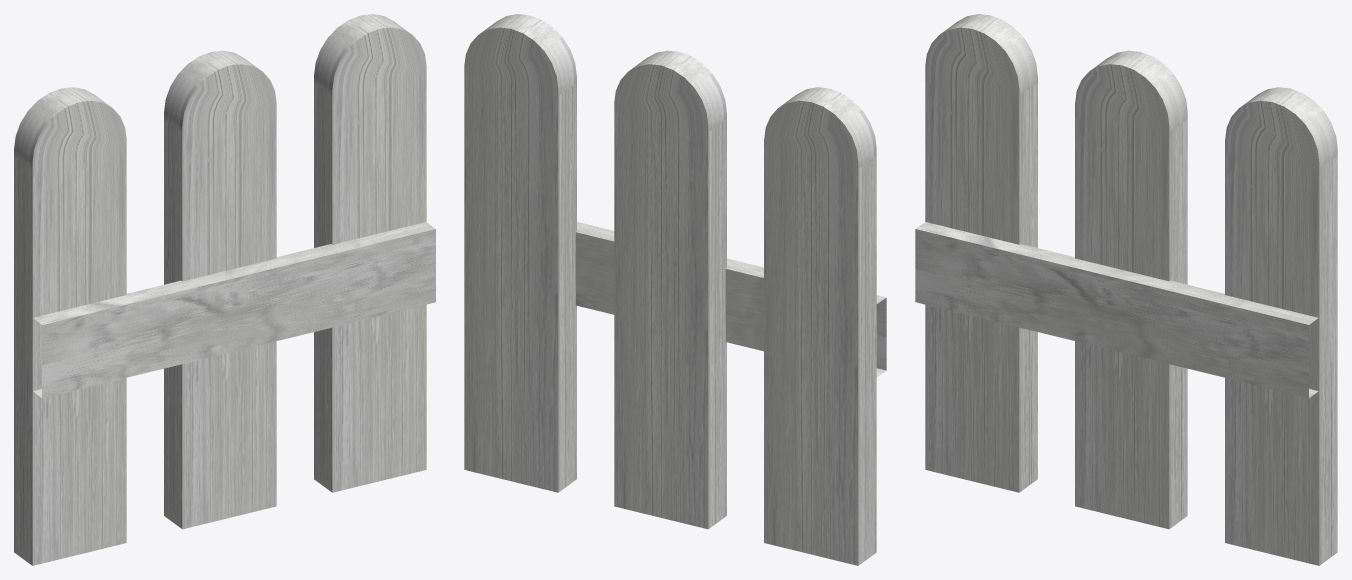
The model's file is SmallWall.fbx.
3 renders of one model, left to right at view 1: azimuth 30°, elevation 25°; view 2: azimuth 150°, elevation 25°; view 3: azimuth 330°, elevation 25°, orthographic.
Parts seen in each view (by area): view 1: polySurface20, polySurface21, polySurface22, polySurface23; view 2: polySurface20, polySurface21, polySurface22, polySurface23; view 3: polySurface22, polySurface21, polySurface20, polySurface23.
Boxes of the visible parts, x1,y1,x2,y2 form: polySurface20: [14, 87, 126, 565]; polySurface21: [164, 50, 276, 529]; polySurface22: [314, 14, 426, 492]; polySurface23: [33, 222, 435, 398]; polySurface20: [764, 87, 876, 565]; polySurface21: [614, 50, 726, 529]; polySurface22: [464, 14, 576, 492]; polySurface23: [575, 222, 886, 376]; polySurface22: [1225, 87, 1337, 565]; polySurface21: [1075, 50, 1187, 529]; polySurface20: [925, 14, 1037, 492]; polySurface23: [915, 222, 1318, 397].
Bounding box in the file's own units: 36.94 × 40.5 × 4.58.
1 material, 1 textured.
